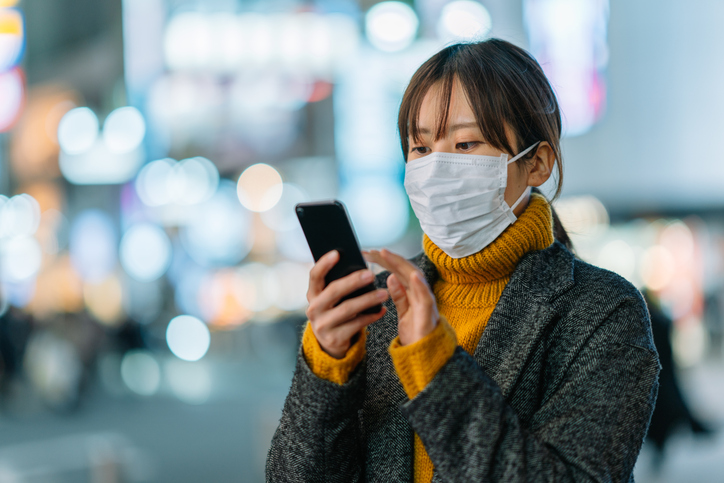surgical: (389, 150, 527, 260)
